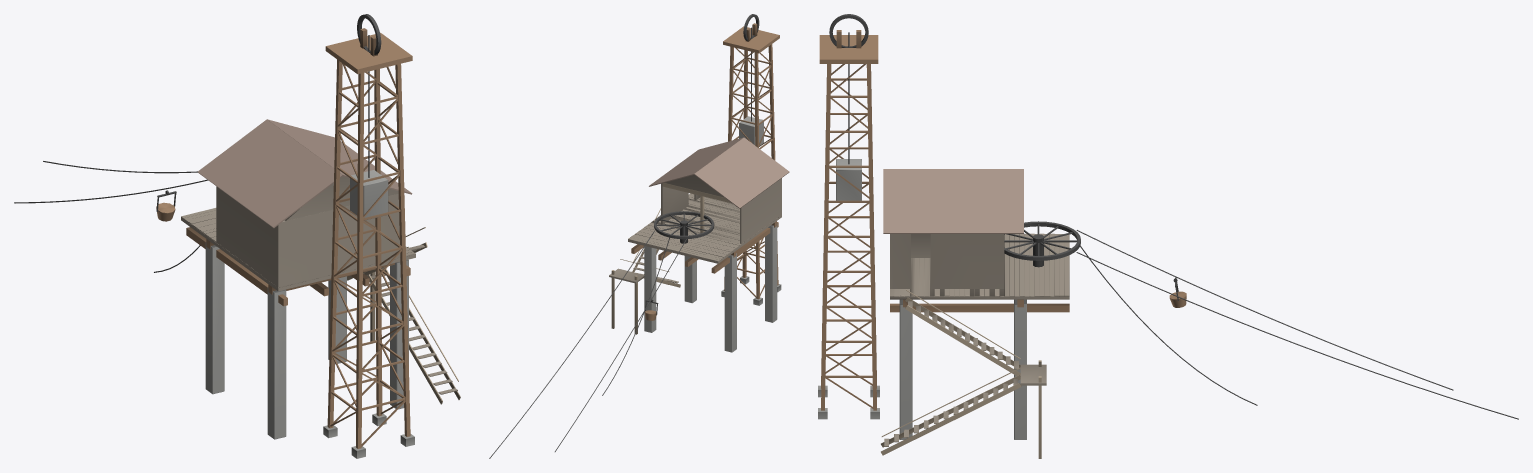
File: ropeway_station.glb
3 renders of one model, left to right at view 1: azimuth 30°, elevation 25°; view 2: azimuth 150°, elevation 25°; view 3: azimuth 270°, elevation 25°, orthographic. The views are drawn at different scales.
Parts seen in each view (by area): view 1: static; view 2: static; view 3: static.
Boxes of the visible parts, x1,y1,x2,y2 form: static: (14, 14, 460, 458); static: (489, 14, 789, 458); static: (818, 14, 1518, 458).
Size of the model in its own units: 12.24 by 26.7 by 42.91.
